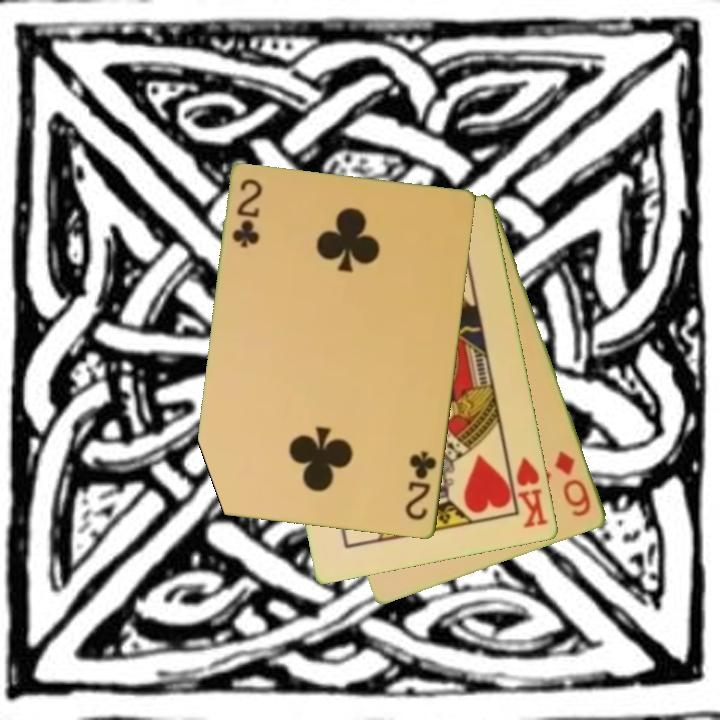2c: (402, 448, 440, 524), (229, 175, 266, 251)
6d: (552, 447, 595, 520)
Kh: (505, 452, 552, 532)
